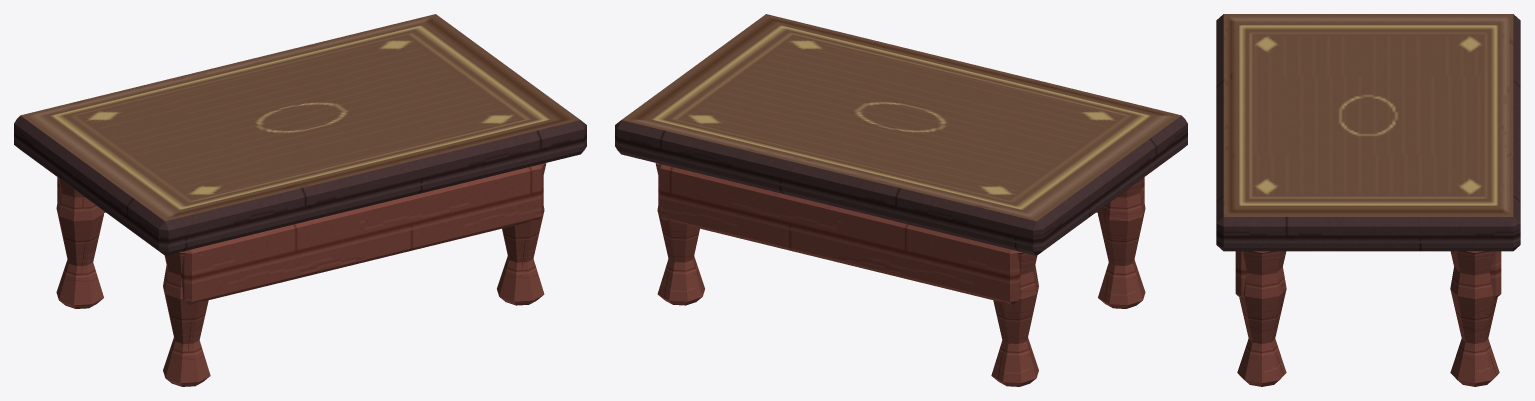
The model's file is MD_25_CoffeeTable.fbx.
The picture shows the model from 3 angles, left to right: view 1: azimuth 30°, elevation 25°; view 2: azimuth 150°, elevation 25°; view 3: azimuth 270°, elevation 25°; orthographic projection.
Parts seen in each view (by area): view 1: MD_25_CoffeeTable_thick_inlaid_top, MD_25_CoffeeTable_carved_apron, MD_25_CoffeeTable_turned_leg.001, MD_25_CoffeeTable_turned_leg, MD_25_CoffeeTable_turned_leg.002; view 2: MD_25_CoffeeTable_thick_inlaid_top, MD_25_CoffeeTable_carved_apron.001, MD_25_CoffeeTable_turned_leg, MD_25_CoffeeTable_turned_leg.001, MD_25_CoffeeTable_turned_leg.003; view 3: MD_25_CoffeeTable_thick_inlaid_top, MD_25_CoffeeTable_turned_leg.002, MD_25_CoffeeTable_turned_leg.003, MD_25_CoffeeTable_carved_apron, MD_25_CoffeeTable_carved_apron.001.
Part boxes in pixels (bbox=[...]): MD_25_CoffeeTable_thick_inlaid_top: bbox=[14, 14, 586, 255]; MD_25_CoffeeTable_carved_apron: bbox=[181, 164, 543, 304]; MD_25_CoffeeTable_turned_leg.001: bbox=[56, 178, 103, 308]; MD_25_CoffeeTable_turned_leg: bbox=[163, 251, 210, 386]; MD_25_CoffeeTable_turned_leg.002: bbox=[497, 163, 546, 305]; MD_25_CoffeeTable_thick_inlaid_top: bbox=[615, 14, 1187, 255]; MD_25_CoffeeTable_carved_apron.001: bbox=[658, 164, 1020, 304]; MD_25_CoffeeTable_turned_leg: bbox=[1098, 178, 1145, 308]; MD_25_CoffeeTable_turned_leg.001: bbox=[991, 251, 1038, 386]; MD_25_CoffeeTable_turned_leg.003: bbox=[655, 163, 704, 305]; MD_25_CoffeeTable_thick_inlaid_top: bbox=[1216, 14, 1520, 251]; MD_25_CoffeeTable_turned_leg.002: bbox=[1237, 251, 1286, 386]; MD_25_CoffeeTable_turned_leg.003: bbox=[1450, 251, 1499, 386]; MD_25_CoffeeTable_carved_apron: bbox=[1235, 251, 1246, 298]; MD_25_CoffeeTable_carved_apron.001: bbox=[1490, 251, 1501, 298].
Size of the model in its own units: 1.3 by 0.53 by 0.8.
4 materials, 4 textured.
